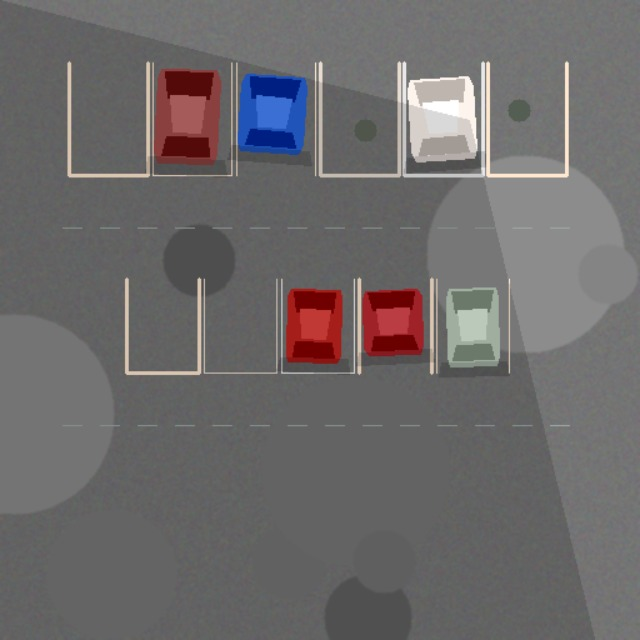space-empty: (320, 63, 399, 175), (487, 63, 566, 175), (69, 63, 147, 175), (126, 279, 199, 372), (204, 279, 276, 372)
space-occupied: (236, 63, 315, 175), (404, 63, 483, 175), (153, 63, 231, 175), (281, 279, 354, 372), (436, 279, 509, 372), (359, 279, 431, 372)
